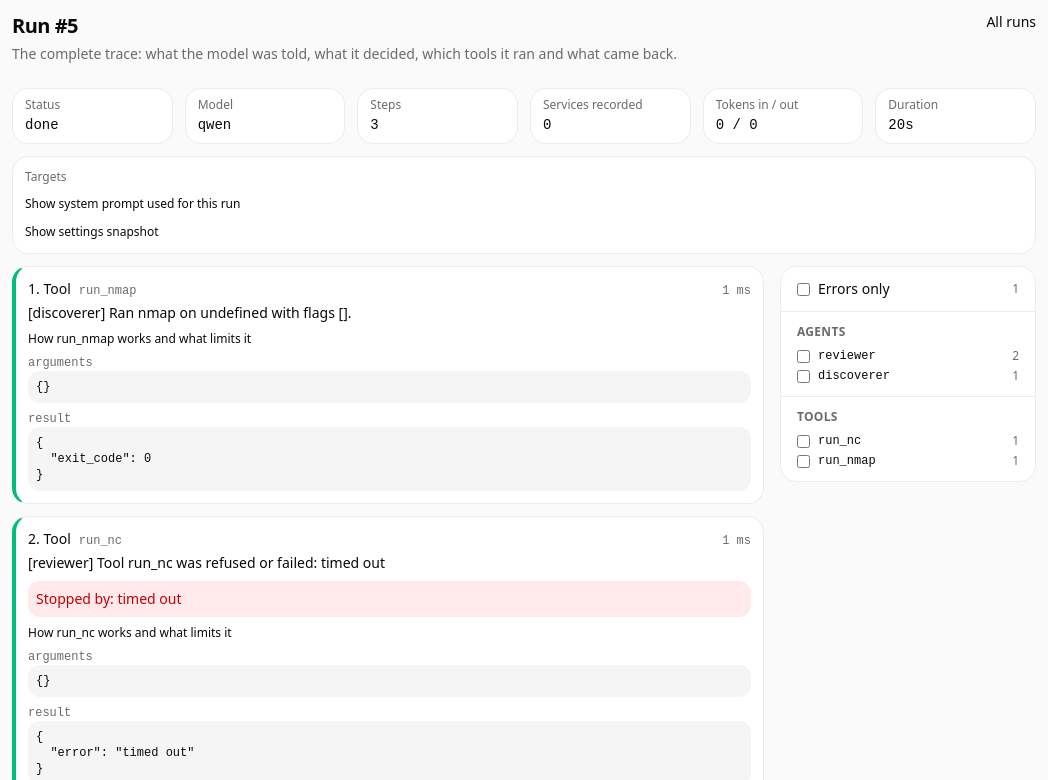
Test: AiTracePage › filters the trace by agent, tool and errors on the right-hand panel
Check: the text "1. Tool" is shown, box x1=28 y1=279 x2=136 y2=299
Check: the text "2. Tool" is shown, box x1=28 y1=529 x2=122 y2=549
Click the checkbox labelled "reviewer 2".
click(804, 356)  # box x1=797 y1=350 x2=810 y2=362
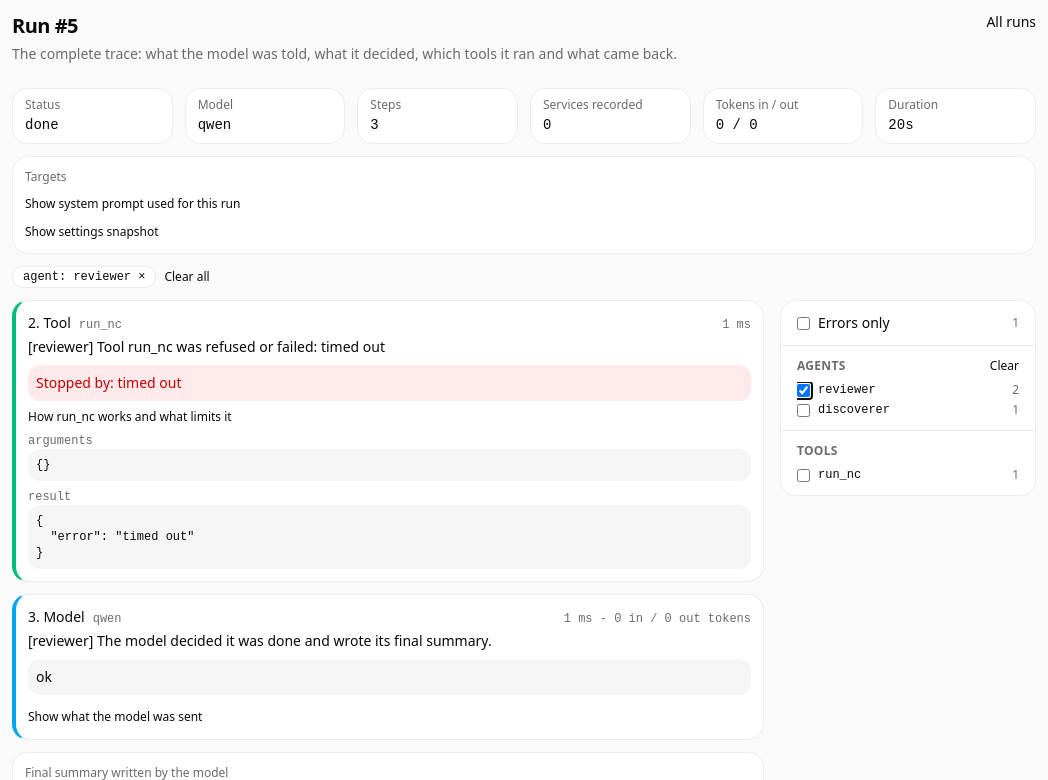
Check: the text "2. Tool" is shown, box x1=28 y1=313 x2=122 y2=333
Check: the text "1. Tool" is gone
Click the checkbox labelled "Errors only 1".
click(804, 323)  # box x1=797 y1=316 x2=810 y2=330
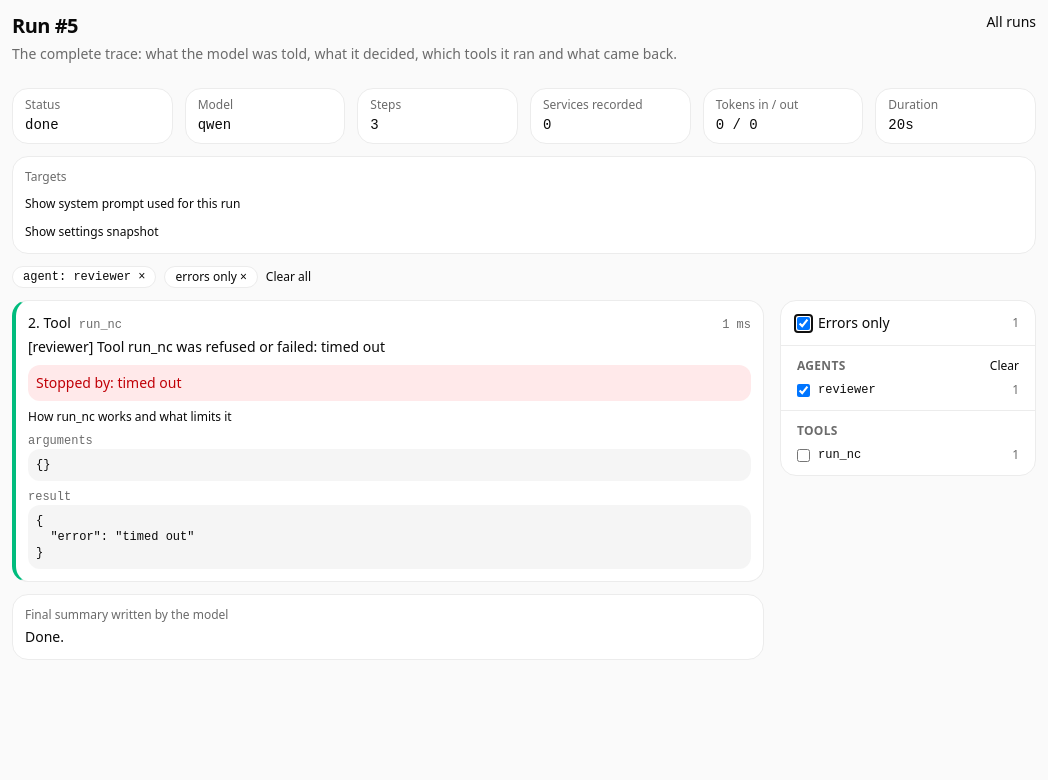
Check: the text "2. Tool" is shown, box x1=28 y1=313 x2=122 y2=333
Check: the text "3. Model" is gone
Click the button "Clear all".
click(288, 277)  # box x1=266 y1=269 x2=311 y2=285
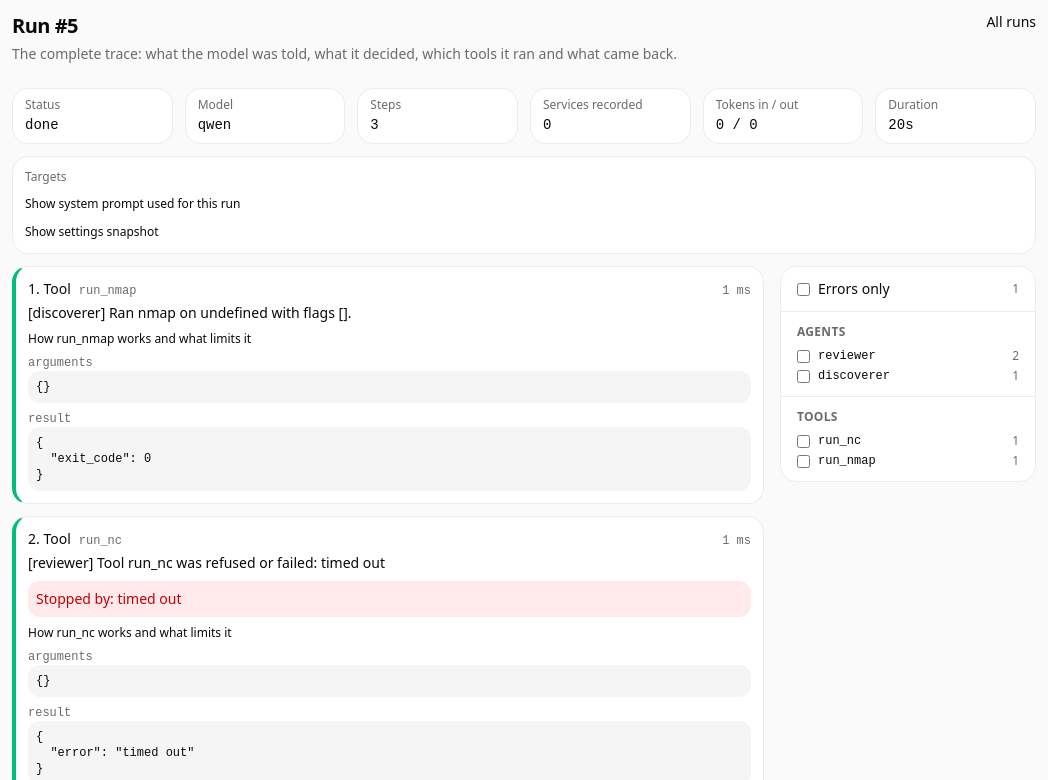
Check: the text "1. Tool" is shown, box x1=28 y1=279 x2=136 y2=299
